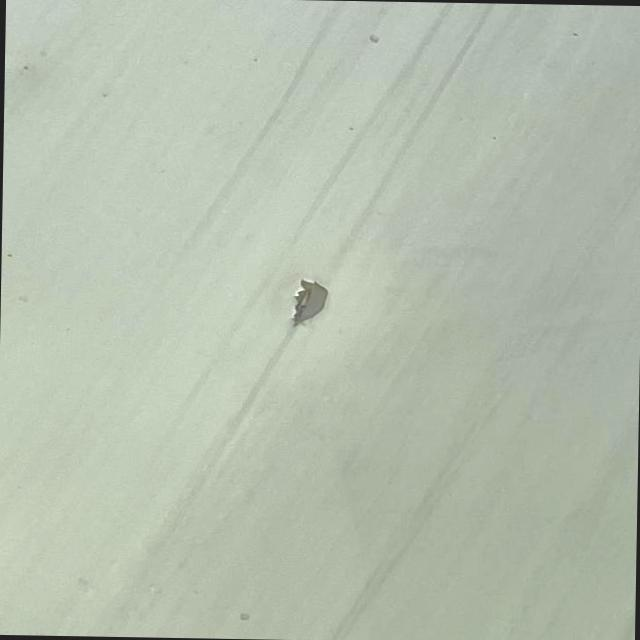crack: (288, 294, 332, 346)
